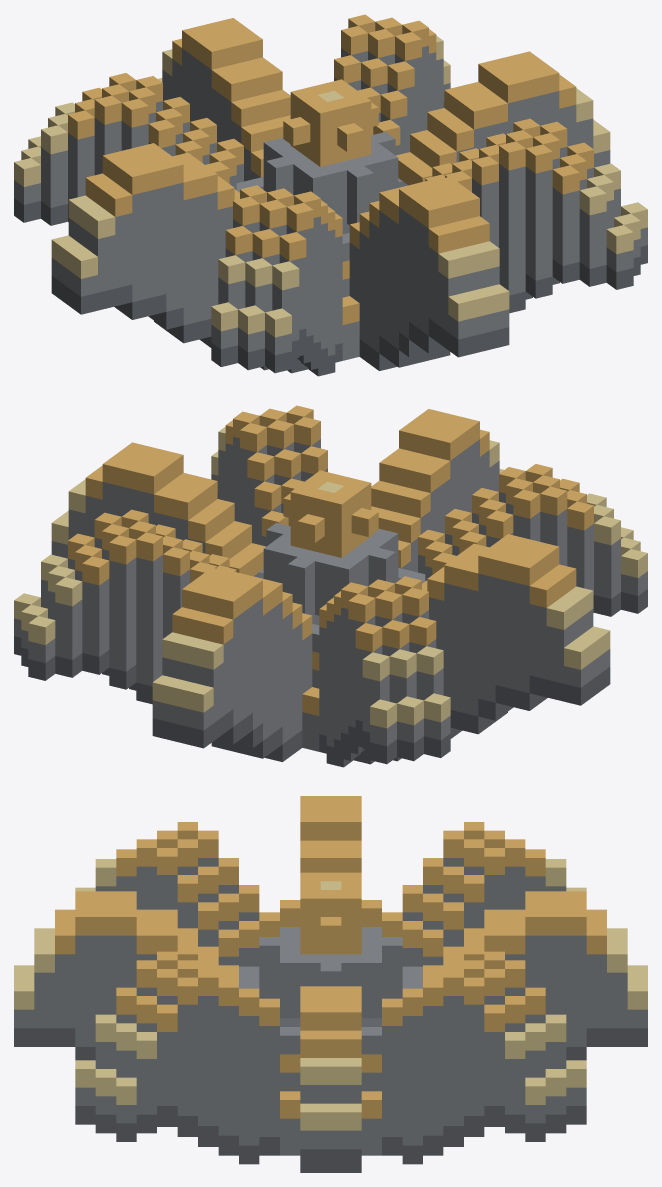
Rendered from fins.glb.
3 views of the same model, one above another, from view 1: azimuth 30°, elevation 25°; view 2: azimuth 150°, elevation 25°; view 3: azimuth 270°, elevation 25° (orthographic). The views are drawn at different scales.
Bounding box in the file's own units: 31 × 12 × 31.
